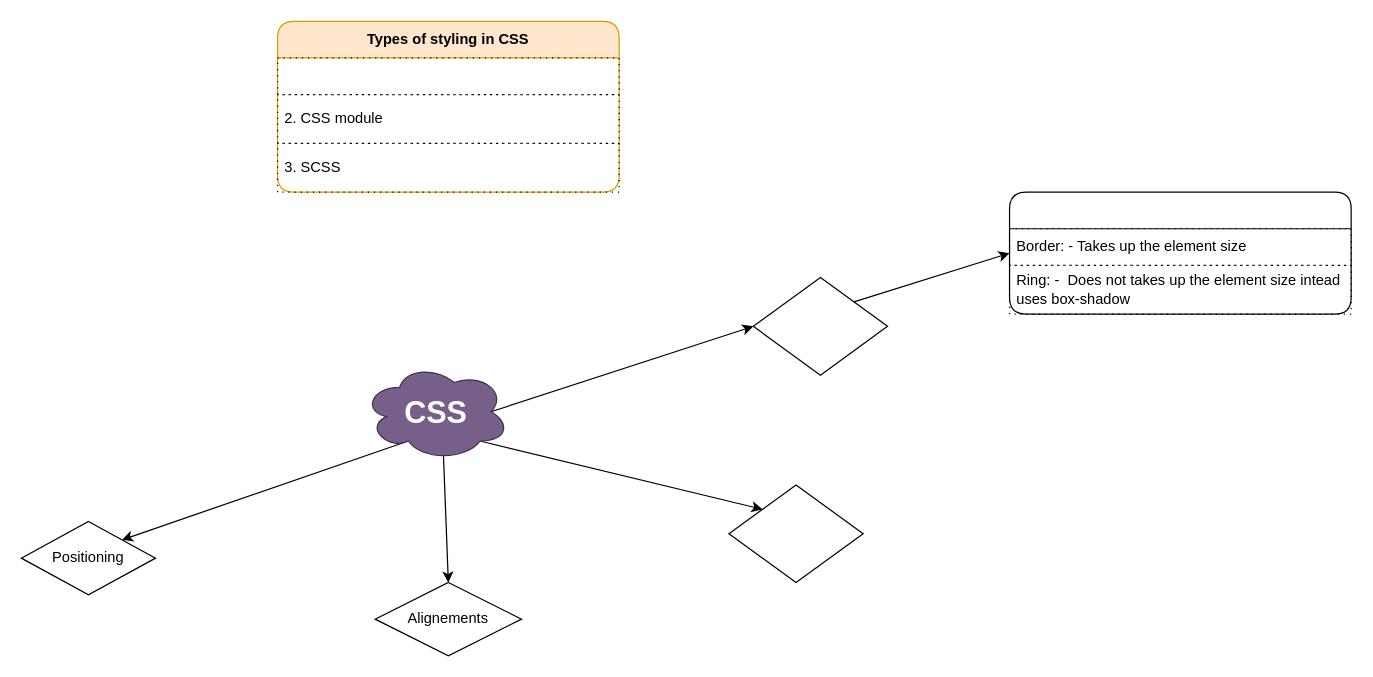
Some shapes in this 1373 by 677 pixel diagram are drawn without their labels. The shapes that lost their labels are listed below. From the top down, each one's box as (x1, y1, x2, y2) in pixels, then its label:
(276, 57, 619, 95): 1. importing full css file
(1008, 191, 1351, 314): Edges
(752, 276, 888, 375): Styles
(728, 484, 863, 583): Animations
